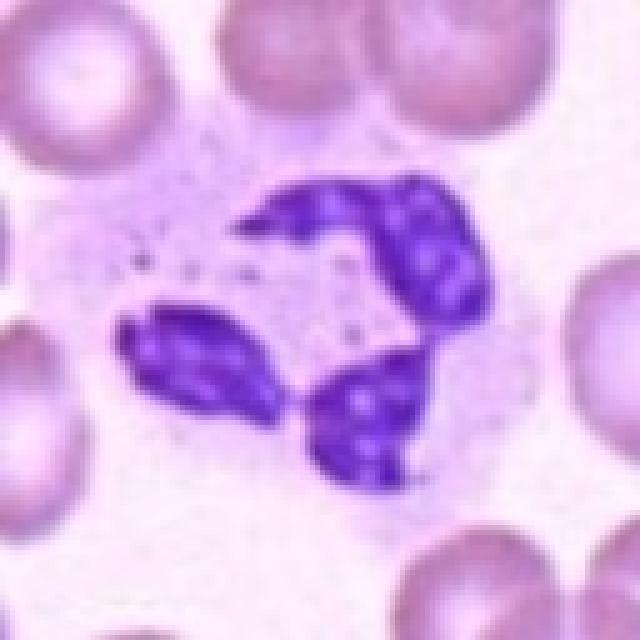neutro: (95, 136, 524, 548)
